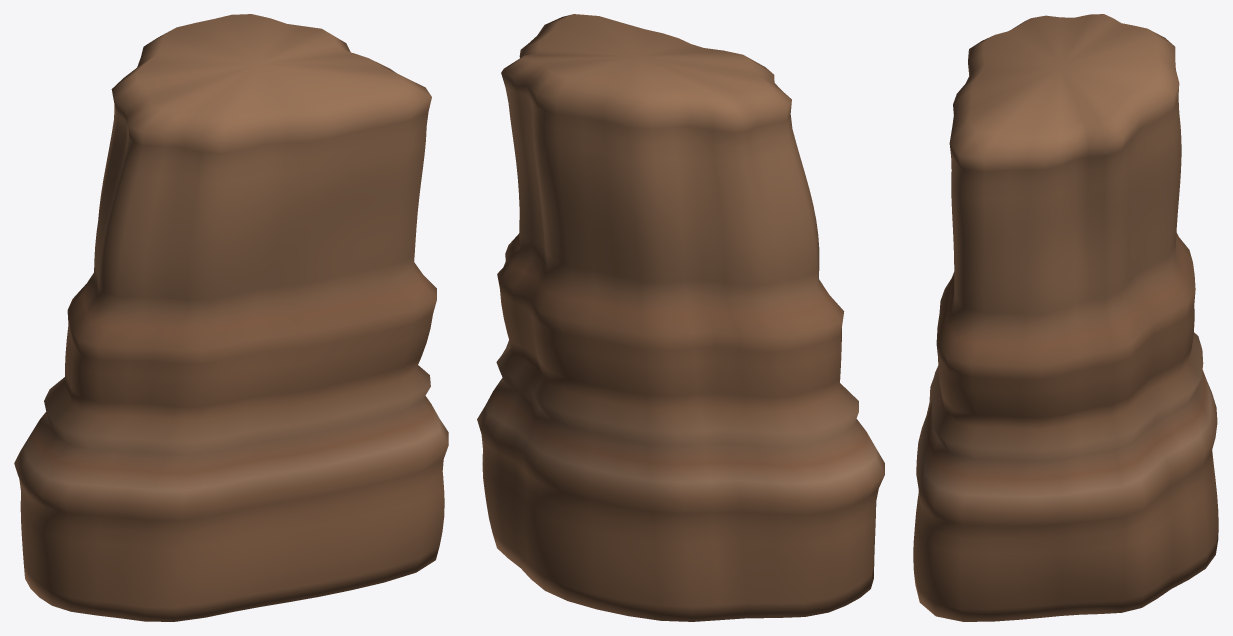
File: redstone-2.glb
The picture shows the model from 3 angles, left to right: view 1: azimuth 30°, elevation 25°; view 2: azimuth 150°, elevation 25°; view 3: azimuth 270°, elevation 25°; orthographic projection. The views are drawn at different scales.
Visible parts, largest first — view 1: redstone_2; view 2: redstone_2; view 3: redstone_2.
Boxes of the visible parts, x1,y1,x2,y2 form: redstone_2: (14,14,448,621); redstone_2: (477,14,884,621); redstone_2: (913,14,1218,621).
Bounding box in the file's own units: 4.97 × 6.21 × 3.41.
